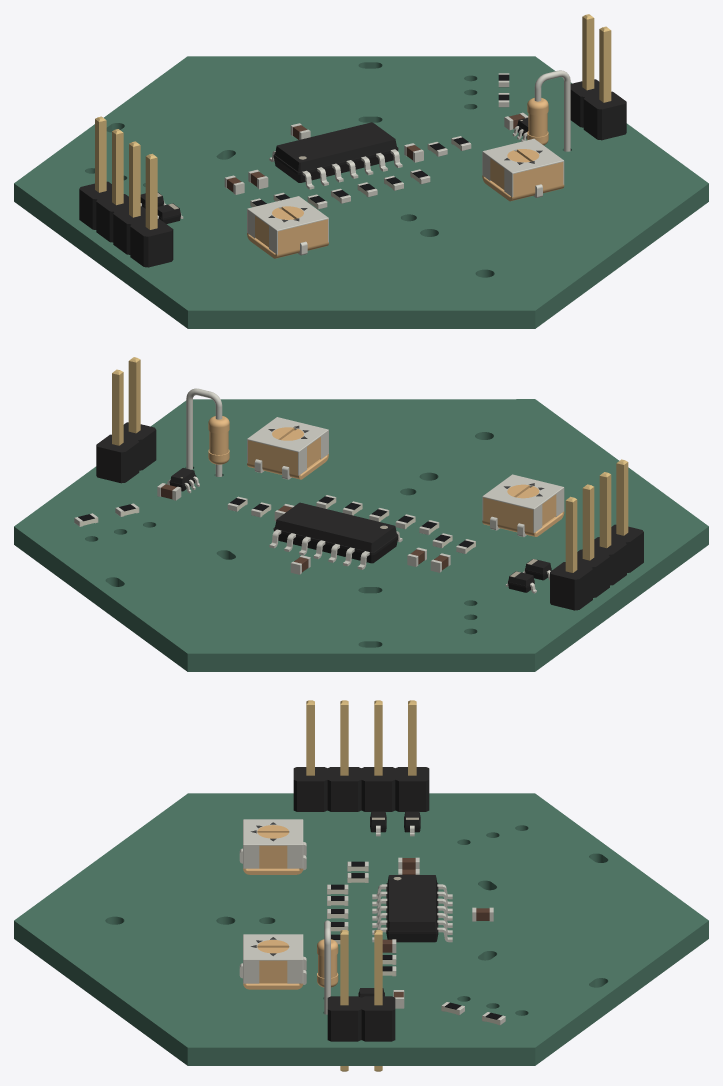
File: LinearToExp.glb
The picture shows the model from 3 angles, top to bottom: view 1: azimuth 30°, elevation 25°; view 2: azimuth 150°, elevation 25°; view 3: azimuth 270°, elevation 25°; orthographic projection.
Parts seen in each view (by area): view 1: =>[0:1:1:20], =>[0:1:1:11] (×2), =>[0:1:1:5], =>[0:1:1:15], =>[0:1:1:9], =>[0:1:1:19]; view 2: =>[0:1:1:20], =>[0:1:1:5], =>[0:1:1:11] (×2), =>[0:1:1:15], =>[0:1:1:9], =>[0:1:1:19], =>[0:1:1:17], =>[0:1:1:13]; view 3: =>[0:1:1:20], =>[0:1:1:5], =>[0:1:1:11] (×2), =>[0:1:1:15], =>[0:1:1:9], =>[0:1:1:19].
Part boxes in pixels (x1,y1,x2,y2): =>[0:1:1:20]: [14, 56, 708, 328]; =>[0:1:1:11] (×2): [247, 138, 564, 258]; =>[0:1:1:5]: [79, 116, 173, 267]; =>[0:1:1:15]: [269, 122, 402, 189]; =>[0:1:1:9]: [570, 14, 626, 140]; =>[0:1:1:19]: [527, 70, 570, 151]; =>[0:1:1:20]: [14, 399, 708, 671]; =>[0:1:1:5]: [550, 459, 643, 610]; =>[0:1:1:11] (×2): [247, 417, 564, 536]; =>[0:1:1:15]: [269, 502, 402, 569]; =>[0:1:1:9]: [96, 357, 156, 483]; =>[0:1:1:19]: [186, 388, 229, 476]; =>[0:1:1:17]: [167, 468, 199, 493]; =>[0:1:1:13]: [505, 571, 536, 593]; =>[0:1:1:20]: [14, 793, 708, 1065]; =>[0:1:1:5]: [293, 700, 429, 811]; =>[0:1:1:11] (×2): [239, 819, 306, 989]; =>[0:1:1:15]: [372, 875, 452, 942]; =>[0:1:1:9]: [327, 930, 395, 1071]; =>[0:1:1:19]: [317, 920, 338, 1014].
Bounding box in the file's own units: 0.045 × 0.0115 × 0.052.
